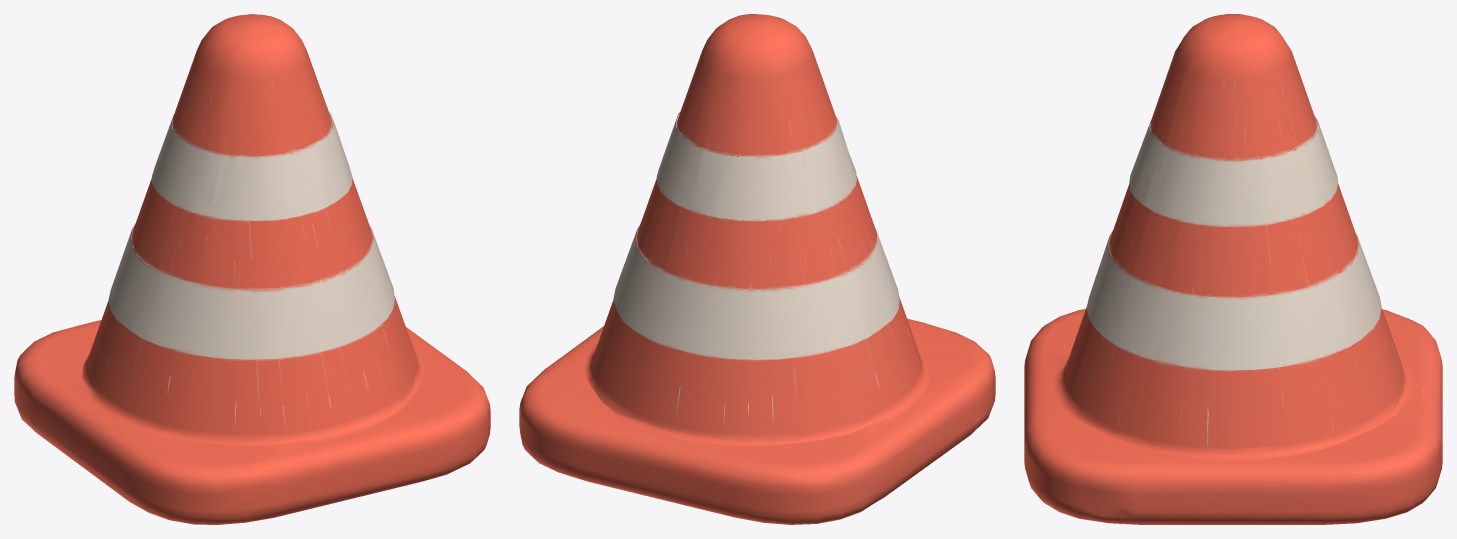
3 renders of one model, left to right at view 1: azimuth 30°, elevation 25°; view 2: azimuth 150°, elevation 25°; view 3: azimuth 270°, elevation 25°, orthographic. The views are drawn at different scales.
Bounding box in the file's own units: 0.8521 × 0.9517 × 0.8521.
Materials: 1 (1 with a texture image).
